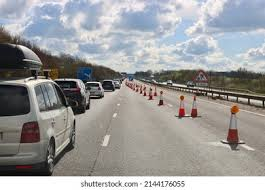car: (1, 77, 76, 172), (55, 77, 92, 111), (85, 81, 106, 98), (101, 80, 116, 92)
cone: (221, 106, 245, 144), (190, 96, 199, 116), (177, 96, 185, 118), (158, 91, 165, 106), (148, 87, 153, 103), (143, 85, 146, 98)
